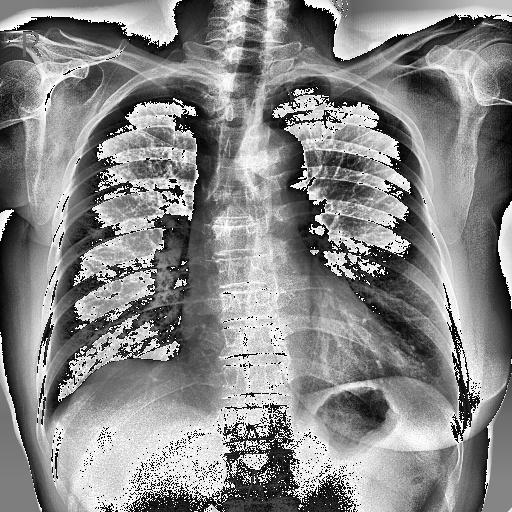0- Aortic enlargement: (238, 124, 310, 214), (243, 128, 309, 200), (234, 125, 304, 182)
3- Cardiomegaly: (176, 296, 412, 378), (180, 316, 424, 382), (176, 322, 400, 390)
9- Other lesion: (42, 354, 188, 436)
